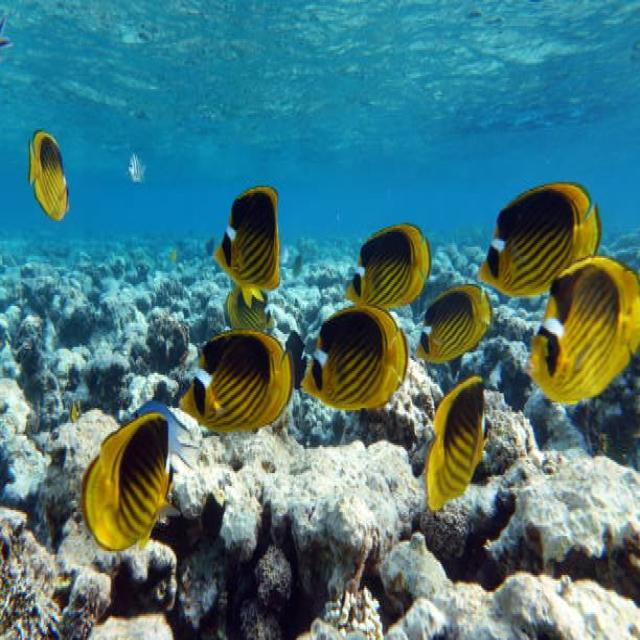ButterflyFish: (522, 257, 640, 408), (481, 180, 604, 302), (80, 408, 178, 557), (300, 297, 406, 411), (178, 334, 297, 432), (217, 183, 288, 305), (426, 374, 494, 501), (347, 222, 430, 316), (412, 278, 496, 368), (27, 124, 75, 228), (224, 284, 282, 336)
